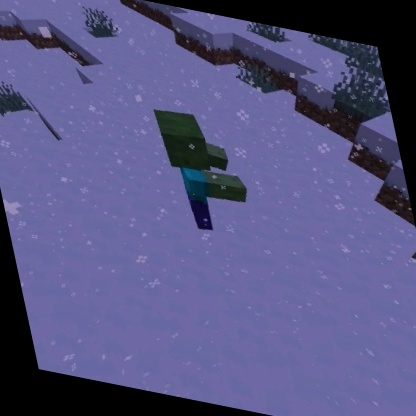zombie: (145, 102, 261, 245)
